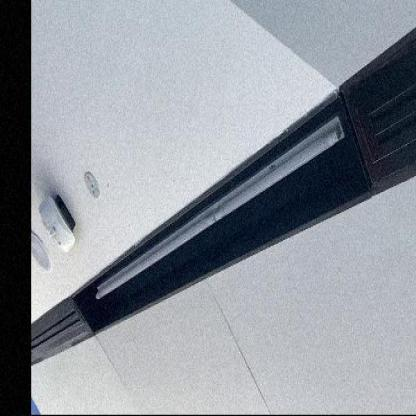light_off: (87, 110, 352, 314)
